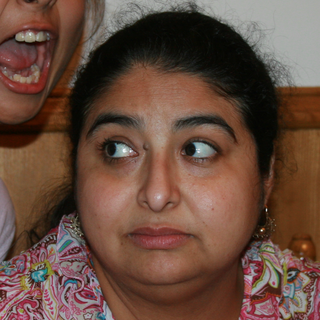eye: (175, 135, 225, 161), (95, 138, 143, 162)
